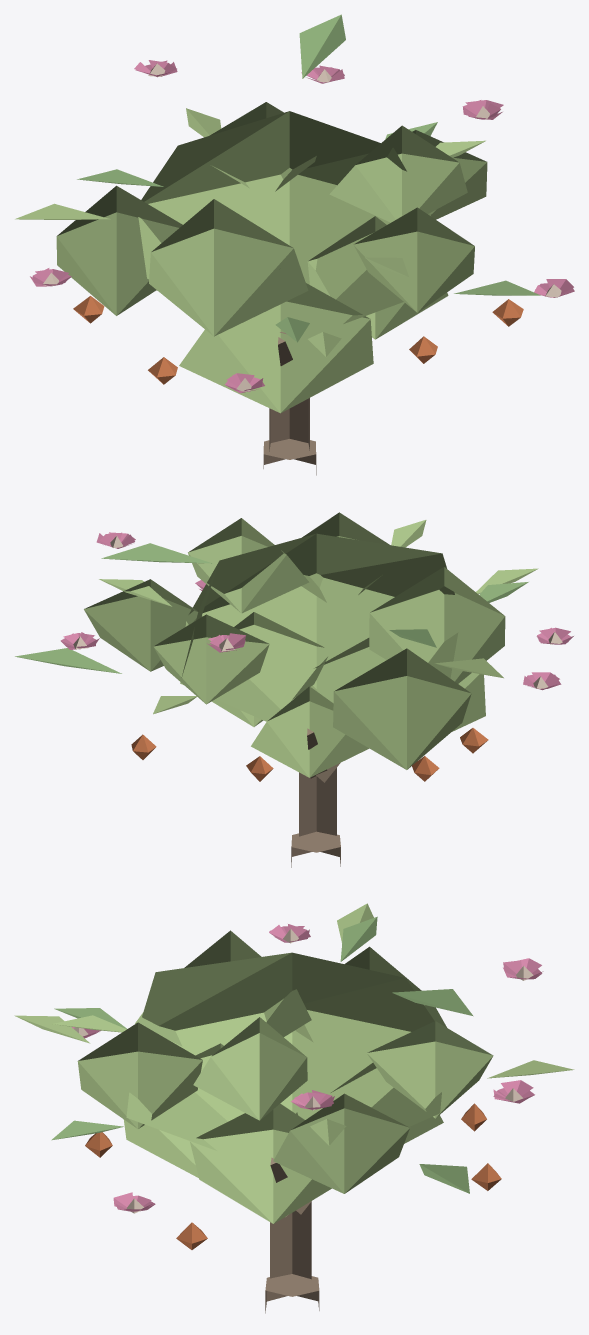
The model's file is shu.ganju__bloom.glb.
The picture shows the model from 3 angles, top to bottom: view 1: azimuth 30°, elevation 25°; view 2: azimuth 150°, elevation 25°; view 3: azimuth 270°, elevation 25°; orthographic projection. The views are drawn at different scales.
Visible parts, largest first — view 1: shu.ganju__bloom; view 2: shu.ganju__bloom; view 3: shu.ganju__bloom.
Part boxes in pixels (bbox=[...]): shu.ganju__bloom: bbox=[15, 14, 574, 475]; shu.ganju__bloom: bbox=[15, 512, 573, 867]; shu.ganju__bloom: bbox=[14, 903, 574, 1313].
Bounding box in the file's own units: 7.4 × 5.12 × 7.18.
